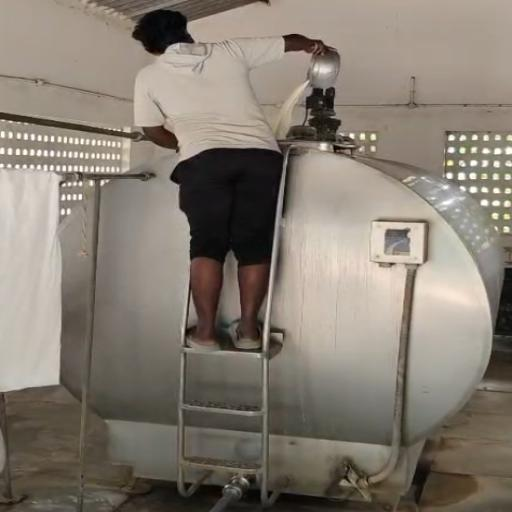silo: (60, 139, 507, 500)
vessel: (304, 49, 342, 89)
